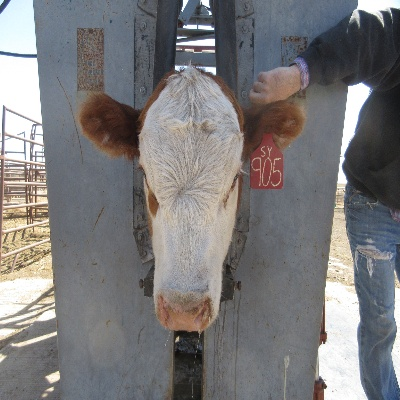fidget_spinner: (154, 294, 215, 333)
